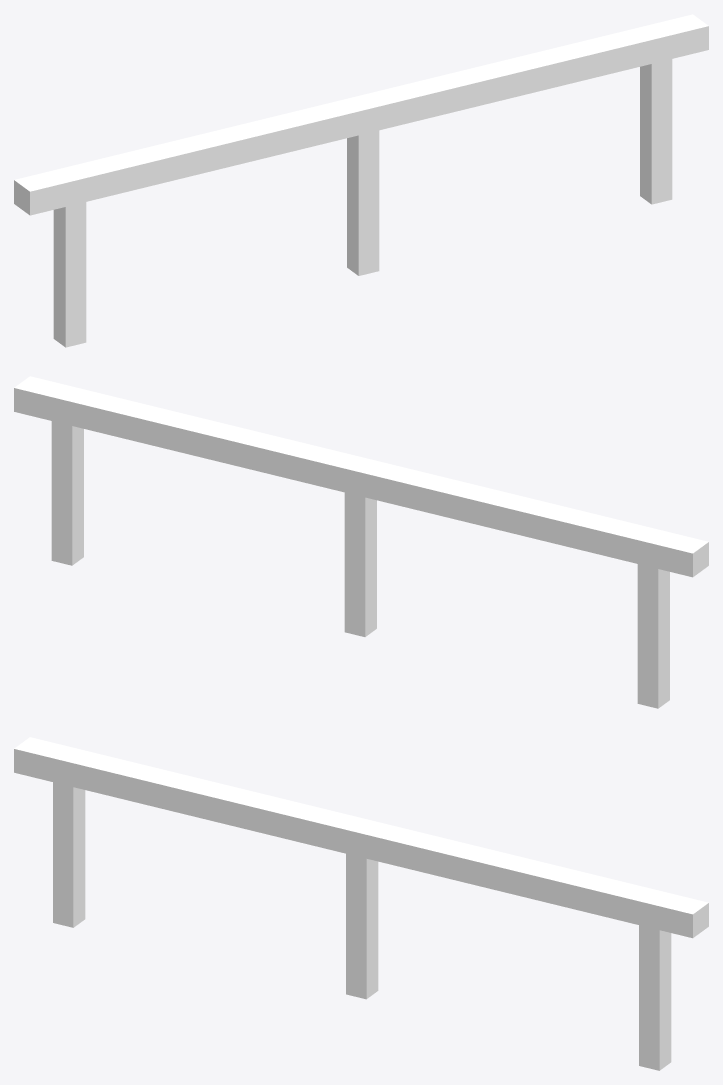
File: rail.glb
3 renders of one model, top to bottom at view 1: azimuth 30°, elevation 25°; view 2: azimuth 150°, elevation 25°; view 3: azimuth 330°, elevation 25°, orthographic.
Visible parts, largest first — view 1: rail(Clone); view 2: rail(Clone); view 3: rail(Clone).
Boxes of the visible parts, x1,y1,x2,y2 form: rail(Clone): (14,14,708,347); rail(Clone): (14,376,708,708); rail(Clone): (14,737,708,1070).
Bounding box in the file's own units: 2.78 × 0.6503 × 0.1139.
Materials: 1 (1 with a texture image).
